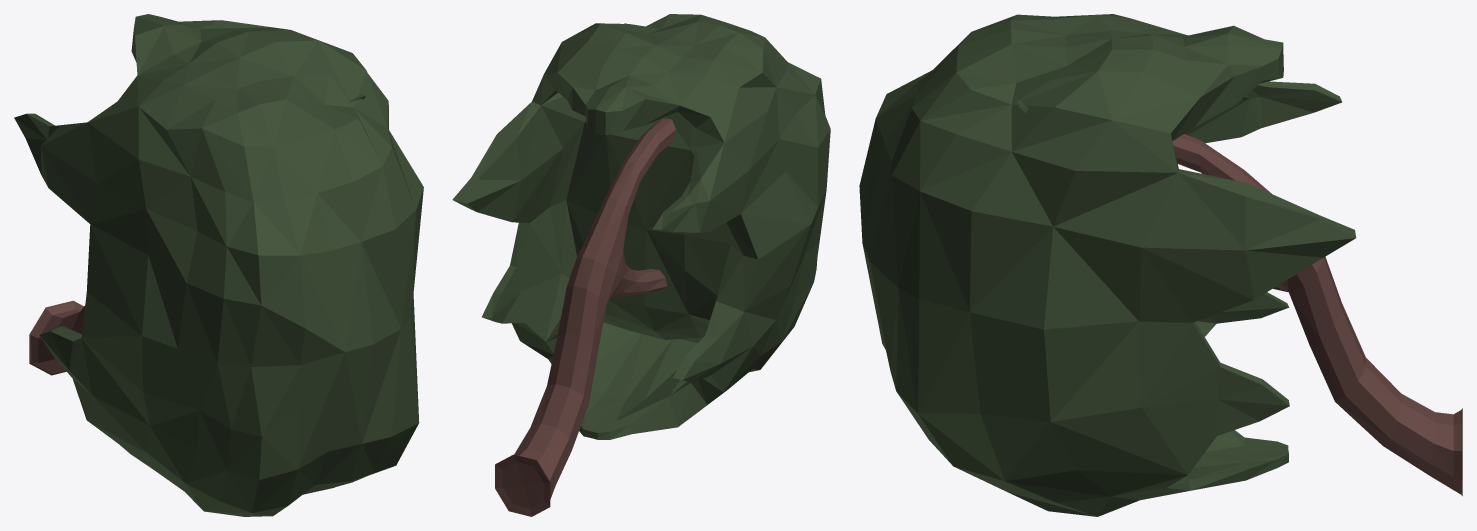
File: tree-willow-3-36-ft.obj
The picture shows the model from 3 angles, left to right: view 1: azimuth 30°, elevation 25°; view 2: azimuth 150°, elevation 25°; view 3: azimuth 270°, elevation 25°; orthographic projection. The views are drawn at different scales.
Visible parts, largest first — view 1: tree-willow-3-36-ft; view 2: tree-willow-3-36-ft; view 3: tree-willow-3-36-ft.
Boxes of the visible parts, bbox=[...] form: tree-willow-3-36-ft: bbox=[14, 14, 423, 516]; tree-willow-3-36-ft: bbox=[452, 14, 830, 516]; tree-willow-3-36-ft: bbox=[859, 14, 1462, 516].
Bounding box in the file's own units: 242 × 364 × 432.
